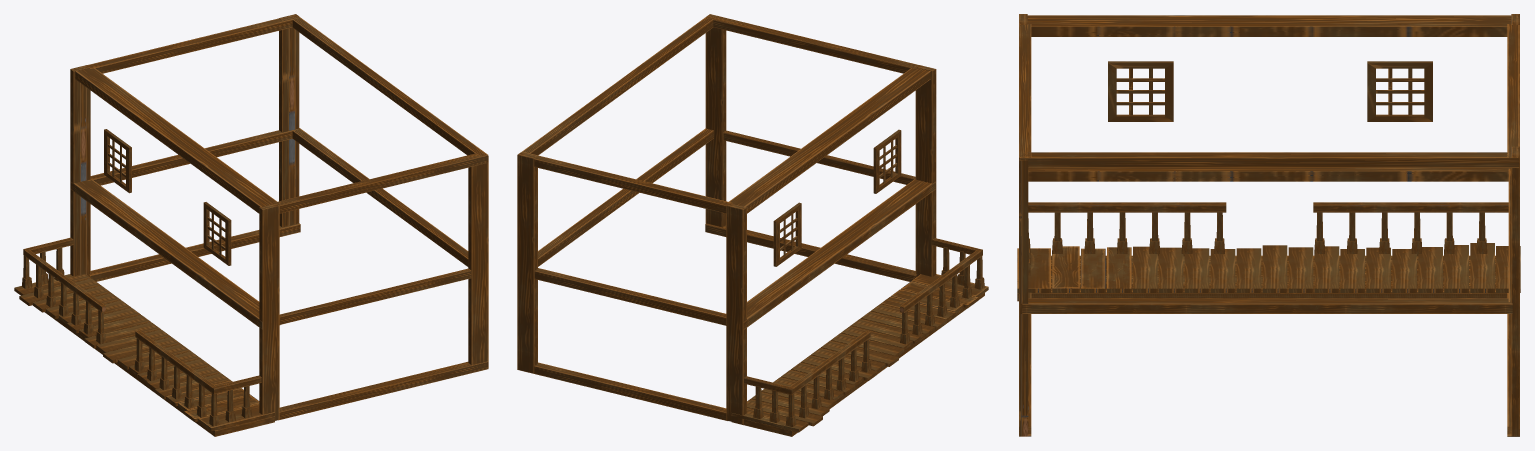
File: SM_15_wood.fbx
3 renders of one model, left to right at view 1: azimuth 30°, elevation 25°; view 2: azimuth 150°, elevation 25°; view 3: azimuth 270°, elevation 25°, orthographic. The views are drawn at different scales.
Visible parts, largest first — view 1: 4x6.084; view 2: 4x6.084; view 3: 4x6.084.
Boxes of the visible parts, x1,y1,x2,y2 form: 4x6.084: (14,14,488,436); 4x6.084: (517,14,988,436); 4x6.084: (1017,14,1520,436).
Bounding box in the file's own units: 11.39 × 8.15 × 13.29.
